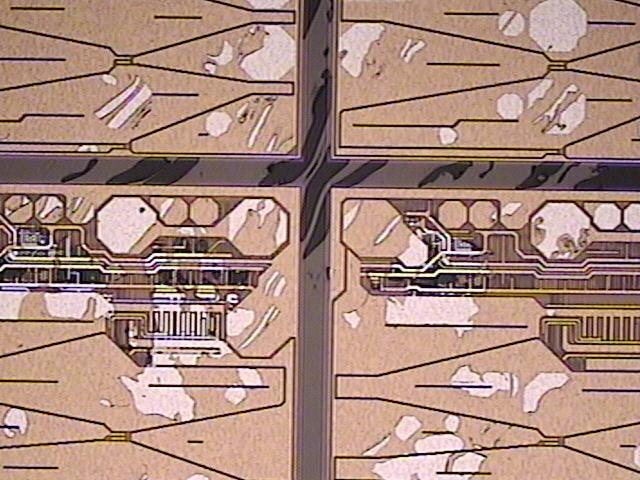COATING BAD: (1, 1, 599, 480)
